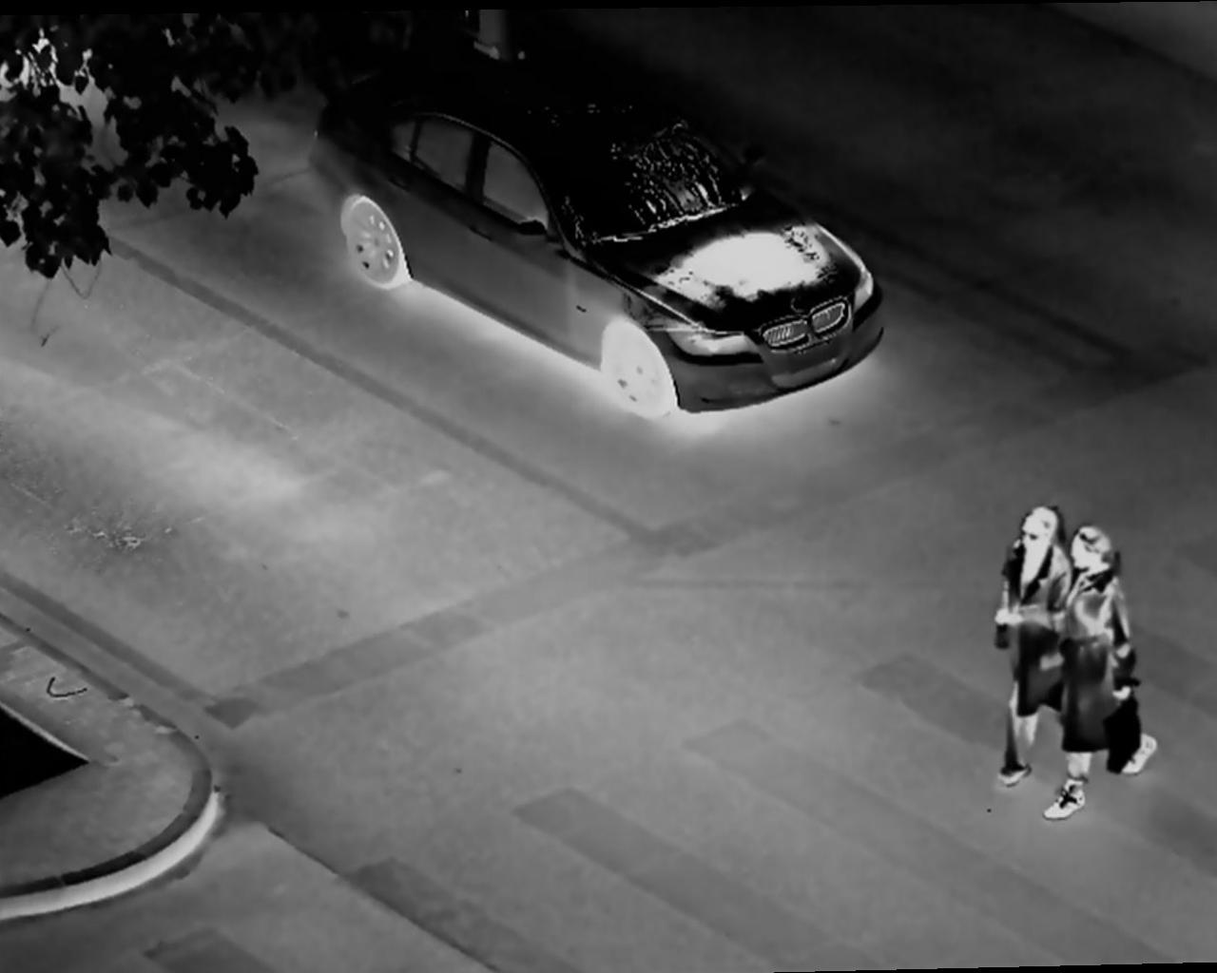person: (1054, 526, 1162, 828), (991, 492, 1063, 755)
